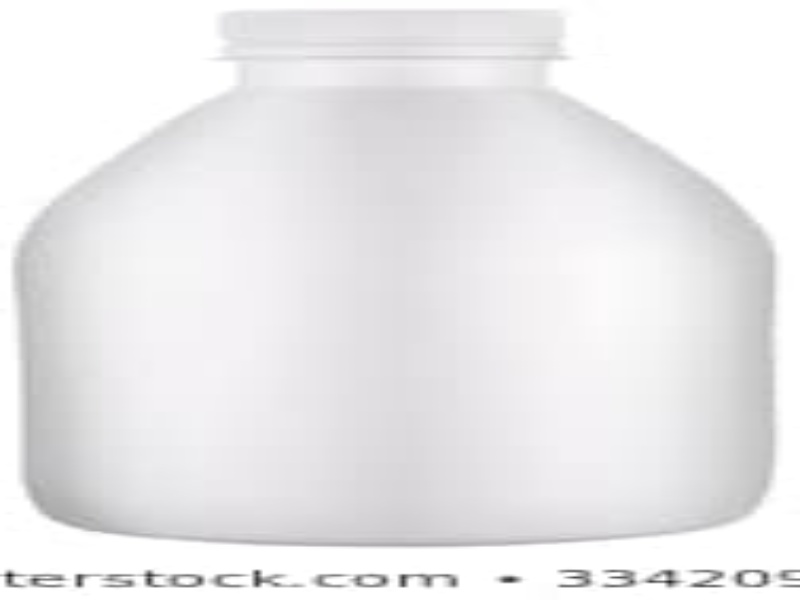detergent-bottle: (9, 3, 778, 538)
